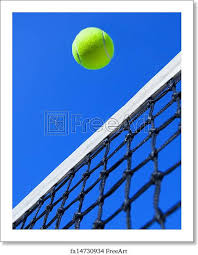tennis_ball: (71, 25, 116, 71)
